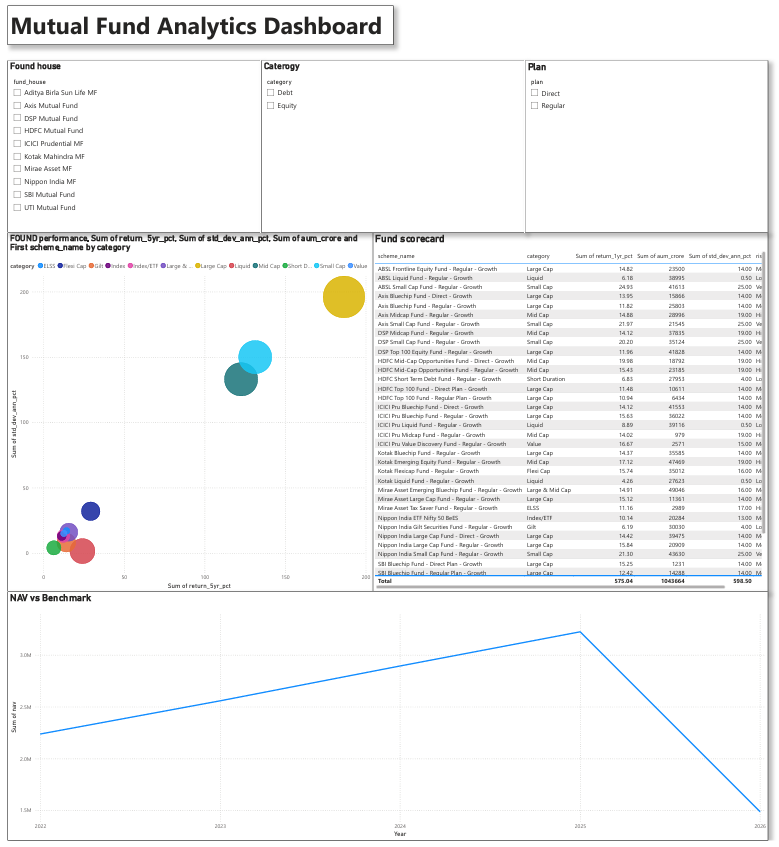

The page's visual inventory and layout, read from the dashboard file:
{"tool":"powerbi","page":{"name":"Fund performance","canvas":[2000,2000],"ordinal":1},"visuals":[{"type":"scatterChart","title":"FOUND performance. Sum of return_5yr_pct, Sum of std_dev_ann_pct, Sum of aum_crore and First scheme_name by category","fields":{"Series":["07_scheme_performance.category"],"Size":["Sum(07_scheme_performance.aum_crore)"],"X":["Sum(07_scheme_performance.return_5yr_pct)"],"Y":["Sum(07_scheme_performance.std_dev_ann_pct)"]},"box":[0,615,832.5,817.5],"z":0},{"type":"tableEx","title":"Fund scorecard","fields":{"Values":["07_scheme_performance.scheme_name","07_scheme_performance.category","Sum(07_scheme_performance.return_1yr_pct)","Sum(07_scheme_performance.aum_crore)","Sum(07_scheme_performance.std_dev_ann_pct)","07_scheme_performance.risk_grade"]},"box":[832.5,615,902.5,817.5],"z":1000},{"type":"lineChart","title":"NAV vs Benchmark","fields":{"Category":["nav_history_cleaned.date.Variation.Date Hierarchy.Year","nav_history_cleaned.date.Variation.Date Hierarchy.Quarter","nav_history_cleaned.date.Variation.Date Hierarchy.Month","nav_history_cleaned.date.Variation.Date Hierarchy.Day"],"Y":["Sum(nav_history_cleaned.nav)"]},"box":[0,1432.5,1735,567.5],"z":2000},{"type":"slicer","title":"Found house","fields":{"Values":["01_fund_master.fund_house"]},"box":[0,222.5,577.5,392.5],"z":3000},{"type":"slicer","title":"Caterogy","fields":{"Values":["01_fund_master.category"]},"box":[577.5,222.5,602.5,392.5],"z":4000},{"type":"slicer","title":"Plan","fields":{"Values":["01_fund_master.plan"]},"box":[1180,222.5,555,392.5],"z":5000},{"type":"textbox","box":[0,97.5,880,90],"z":6000}]}

Visuals, with their boxes on the page's 2000x2000 design canvas (x1, y1, x2, y2). These are canvas units, not pixel positions in the 779x847 screenshot, which may show the page scaled, cropped or inside an application window:
"FOUND performance. Sum of return_5yr_pct, Sum of std_dev_ann_pct, Sum of aum_crore and First scheme_name by category" scatterChart: BBox(0, 615, 832, 1432)
"Fund scorecard" tableEx: BBox(832, 615, 1735, 1432)
"NAV vs Benchmark" lineChart: BBox(0, 1432, 1735, 2000)
"Found house" slicer: BBox(0, 222, 578, 615)
"Caterogy" slicer: BBox(578, 222, 1180, 615)
"Plan" slicer: BBox(1180, 222, 1735, 615)
textbox: BBox(0, 98, 880, 188)
